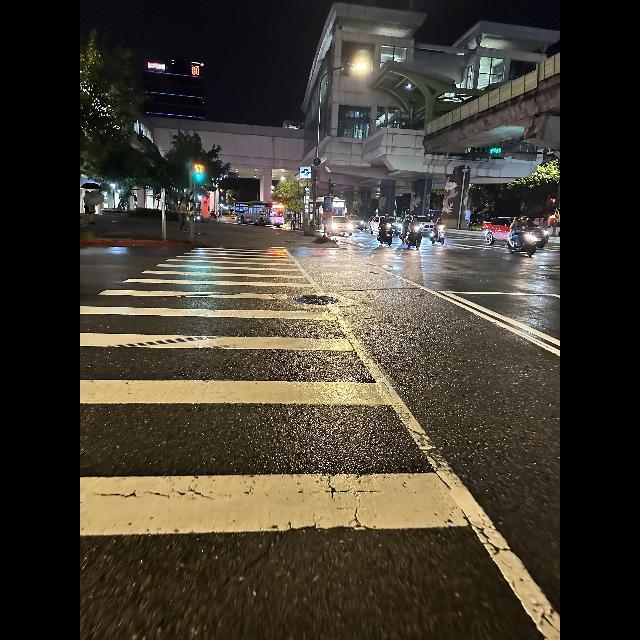sidewalk: (80, 245, 558, 635)
